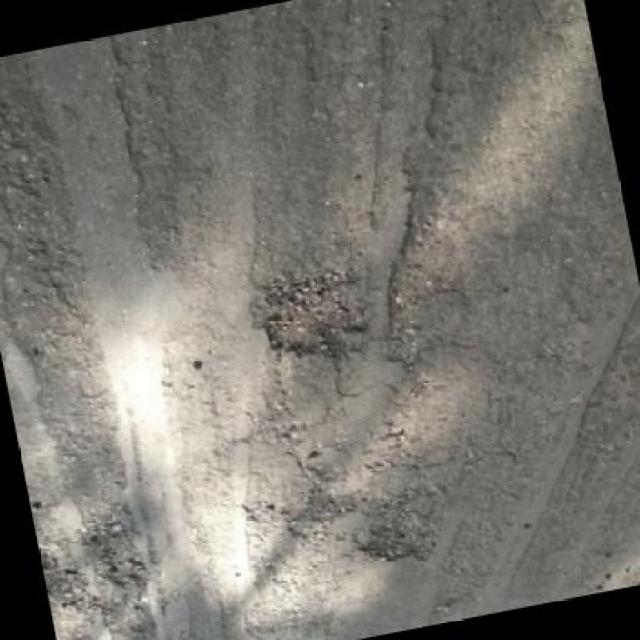pothole1: (243, 258, 379, 376), (348, 504, 446, 573)
